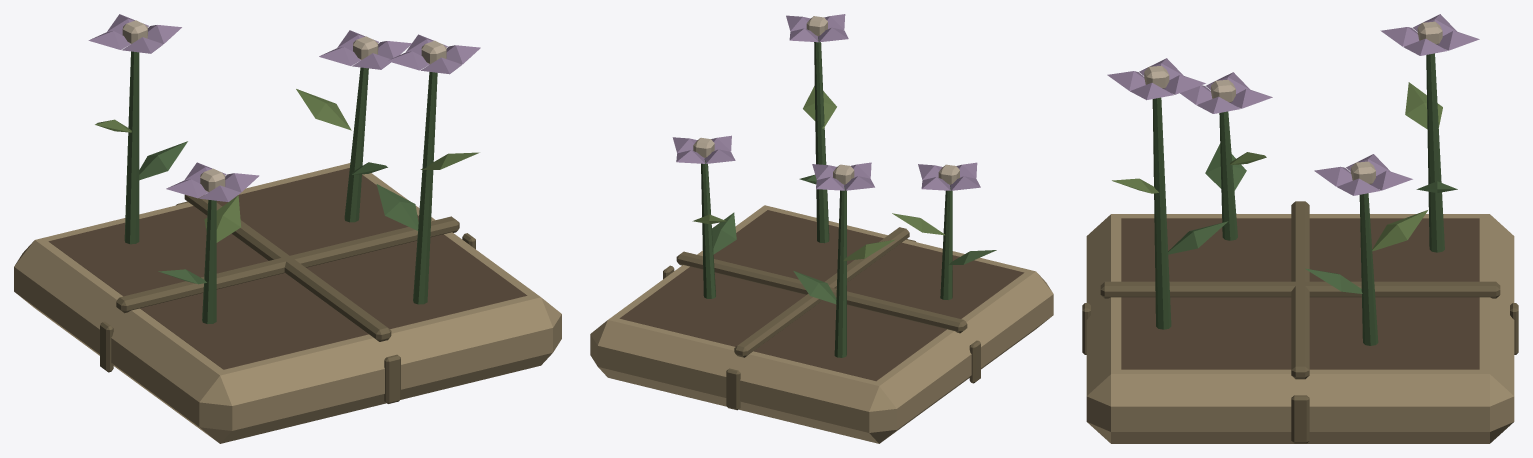
File: flowers_2_packed_summer.glb
3 views of the same model, side by side, from view 1: azimuth 30°, elevation 25°; view 2: azimuth 150°, elevation 25°; view 3: azimuth 270°, elevation 25° (orthographic). The views are drawn at different scales.
Visible parts, largest first — view 1: flowers_2_packed_summer; view 2: flowers_2_packed_summer; view 3: flowers_2_packed_summer.
Boxes of the visible parts, bbox=[...] form: flowers_2_packed_summer: bbox=[14, 14, 561, 443]; flowers_2_packed_summer: bbox=[590, 14, 1053, 443]; flowers_2_packed_summer: bbox=[1082, 14, 1518, 443].
Bounding box in the file's own units: 1.25 × 1.05 × 1.25.
